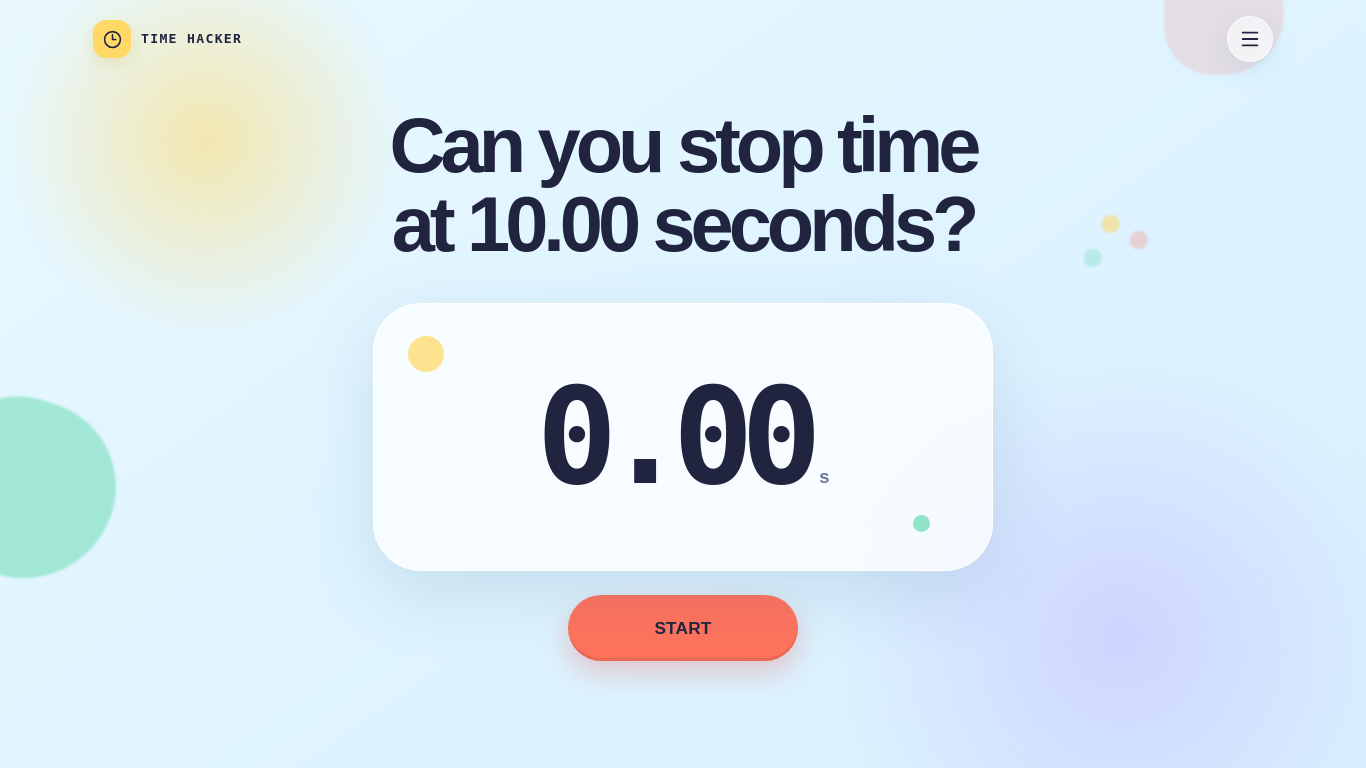
Test: TimeHackerApp › renders the failed result state
What coordinates should you click on to do the following:
click the button "START"
I would click on:
 (683, 628)
Its box is [568, 596, 798, 662].
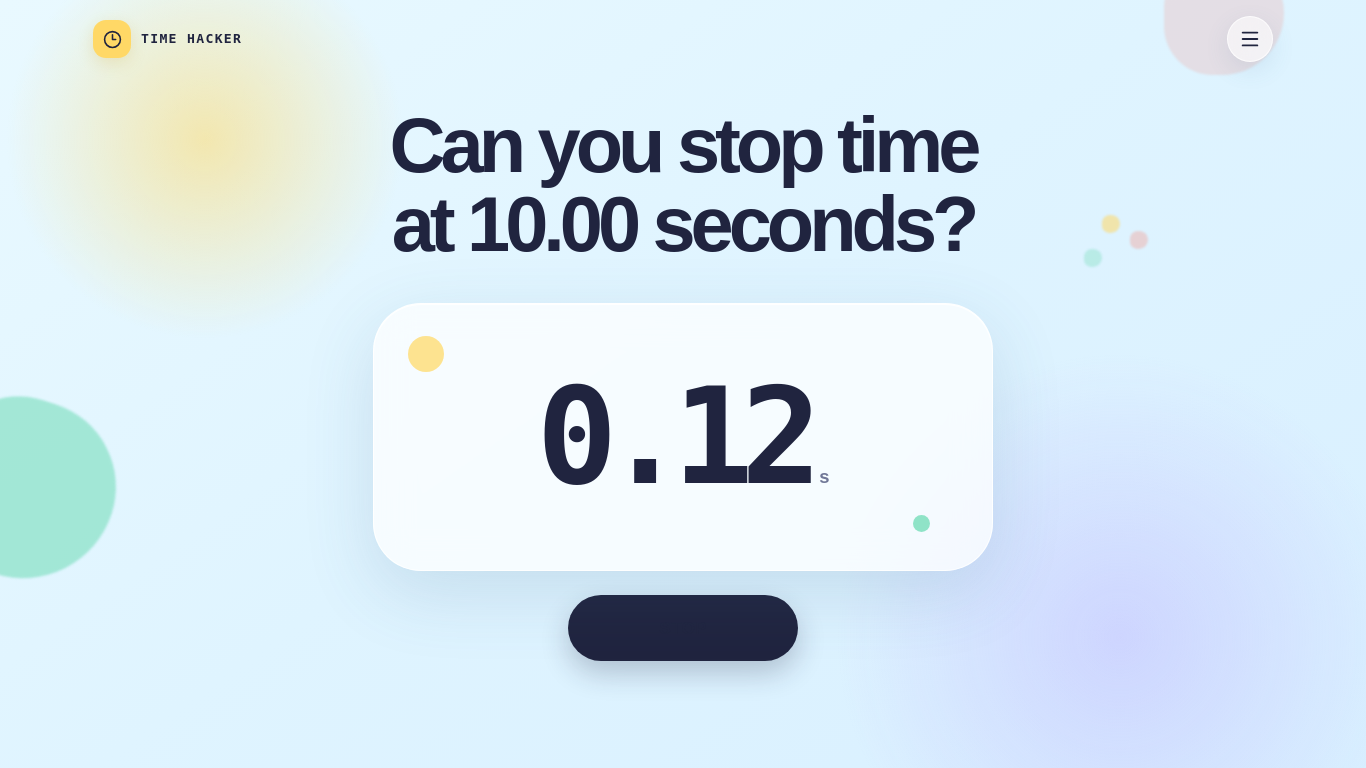
What coordinates should you click on to do the following:
click the button "STOP"
I would click on:
 (683, 628)
Its box is [568, 596, 798, 662].
(page scrolled)
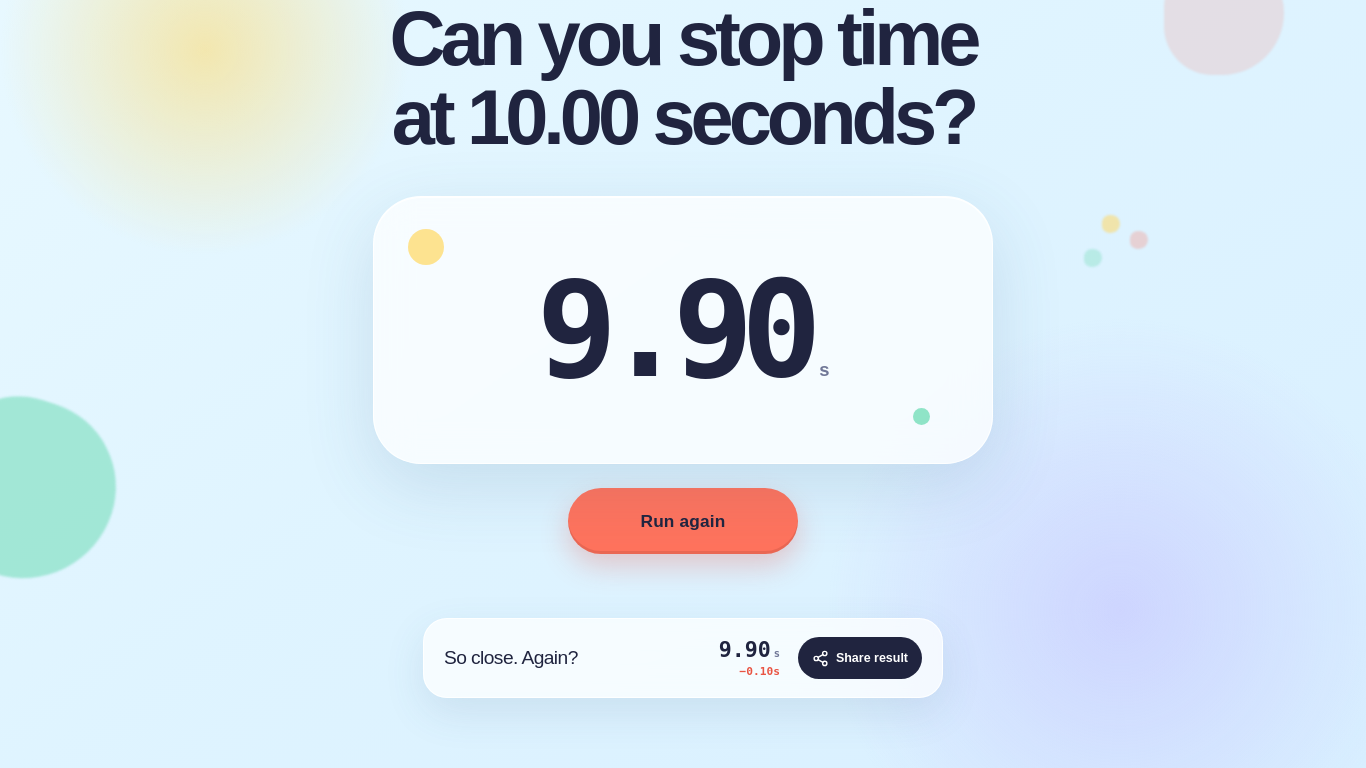
expect the heading "So close. Again?" is shown: met, box [444, 647, 578, 668]
